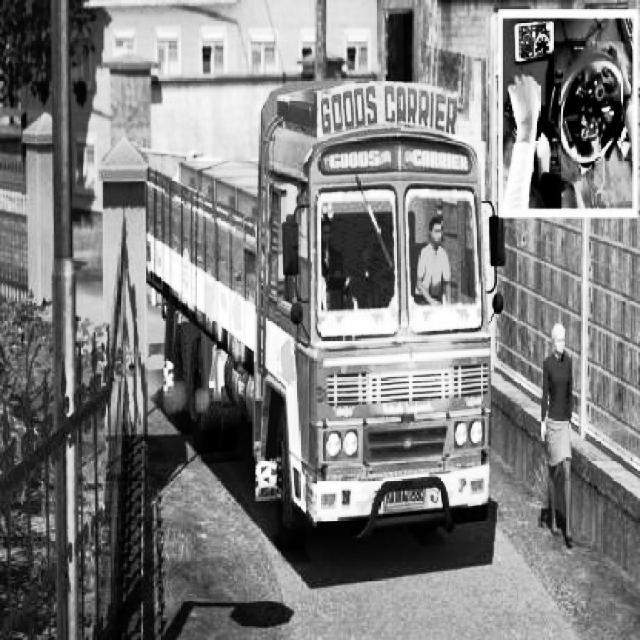HCV: (162, 52, 496, 516)
